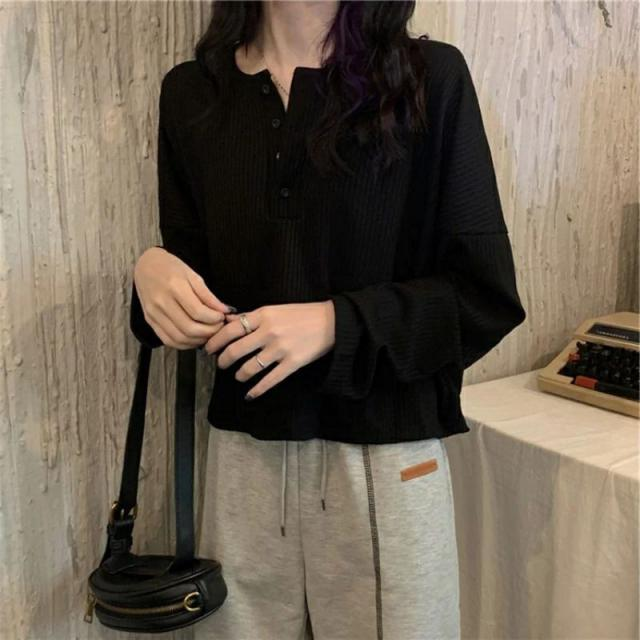Shirt: (152, 32, 530, 451)
